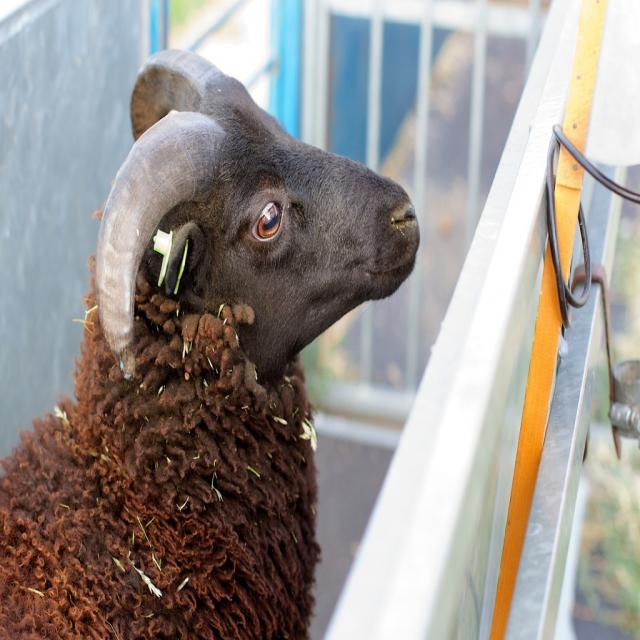Sheep: (0, 45, 420, 639)
